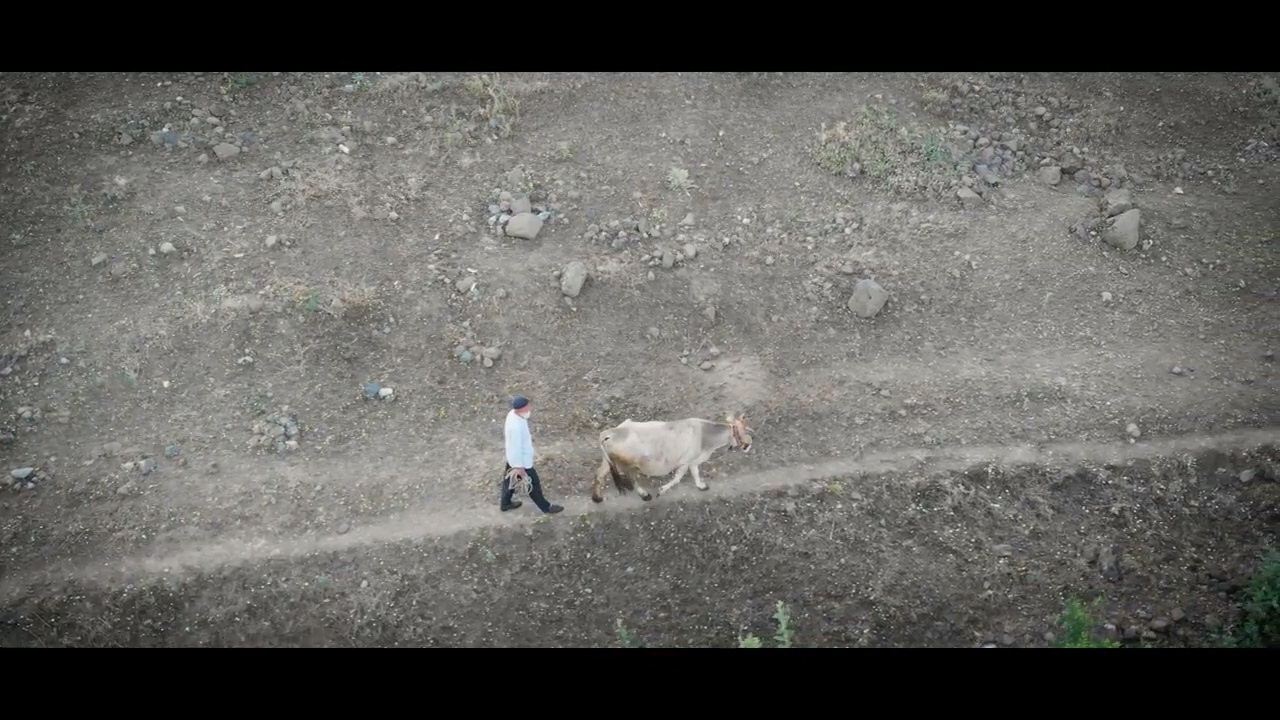insan: (503, 398, 568, 517)
